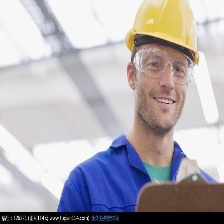helmet: (122, 3, 210, 67)
no-vest: (62, 126, 224, 224)
person: (57, 2, 224, 221)
